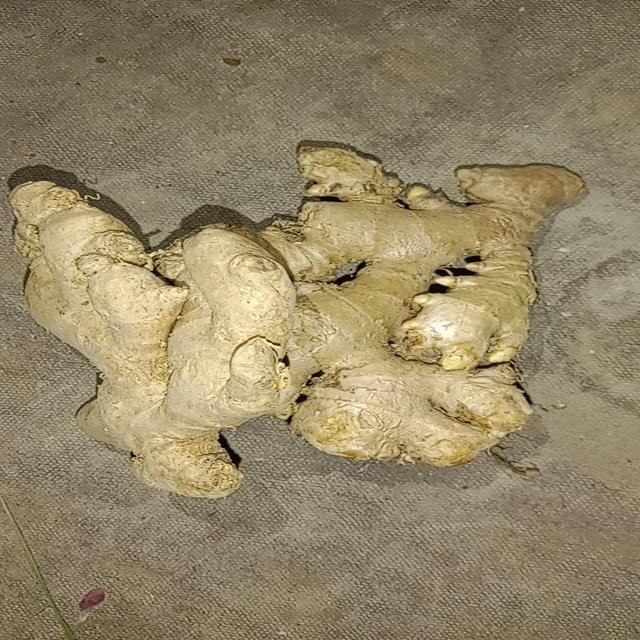ginger: (13, 145, 587, 500)
